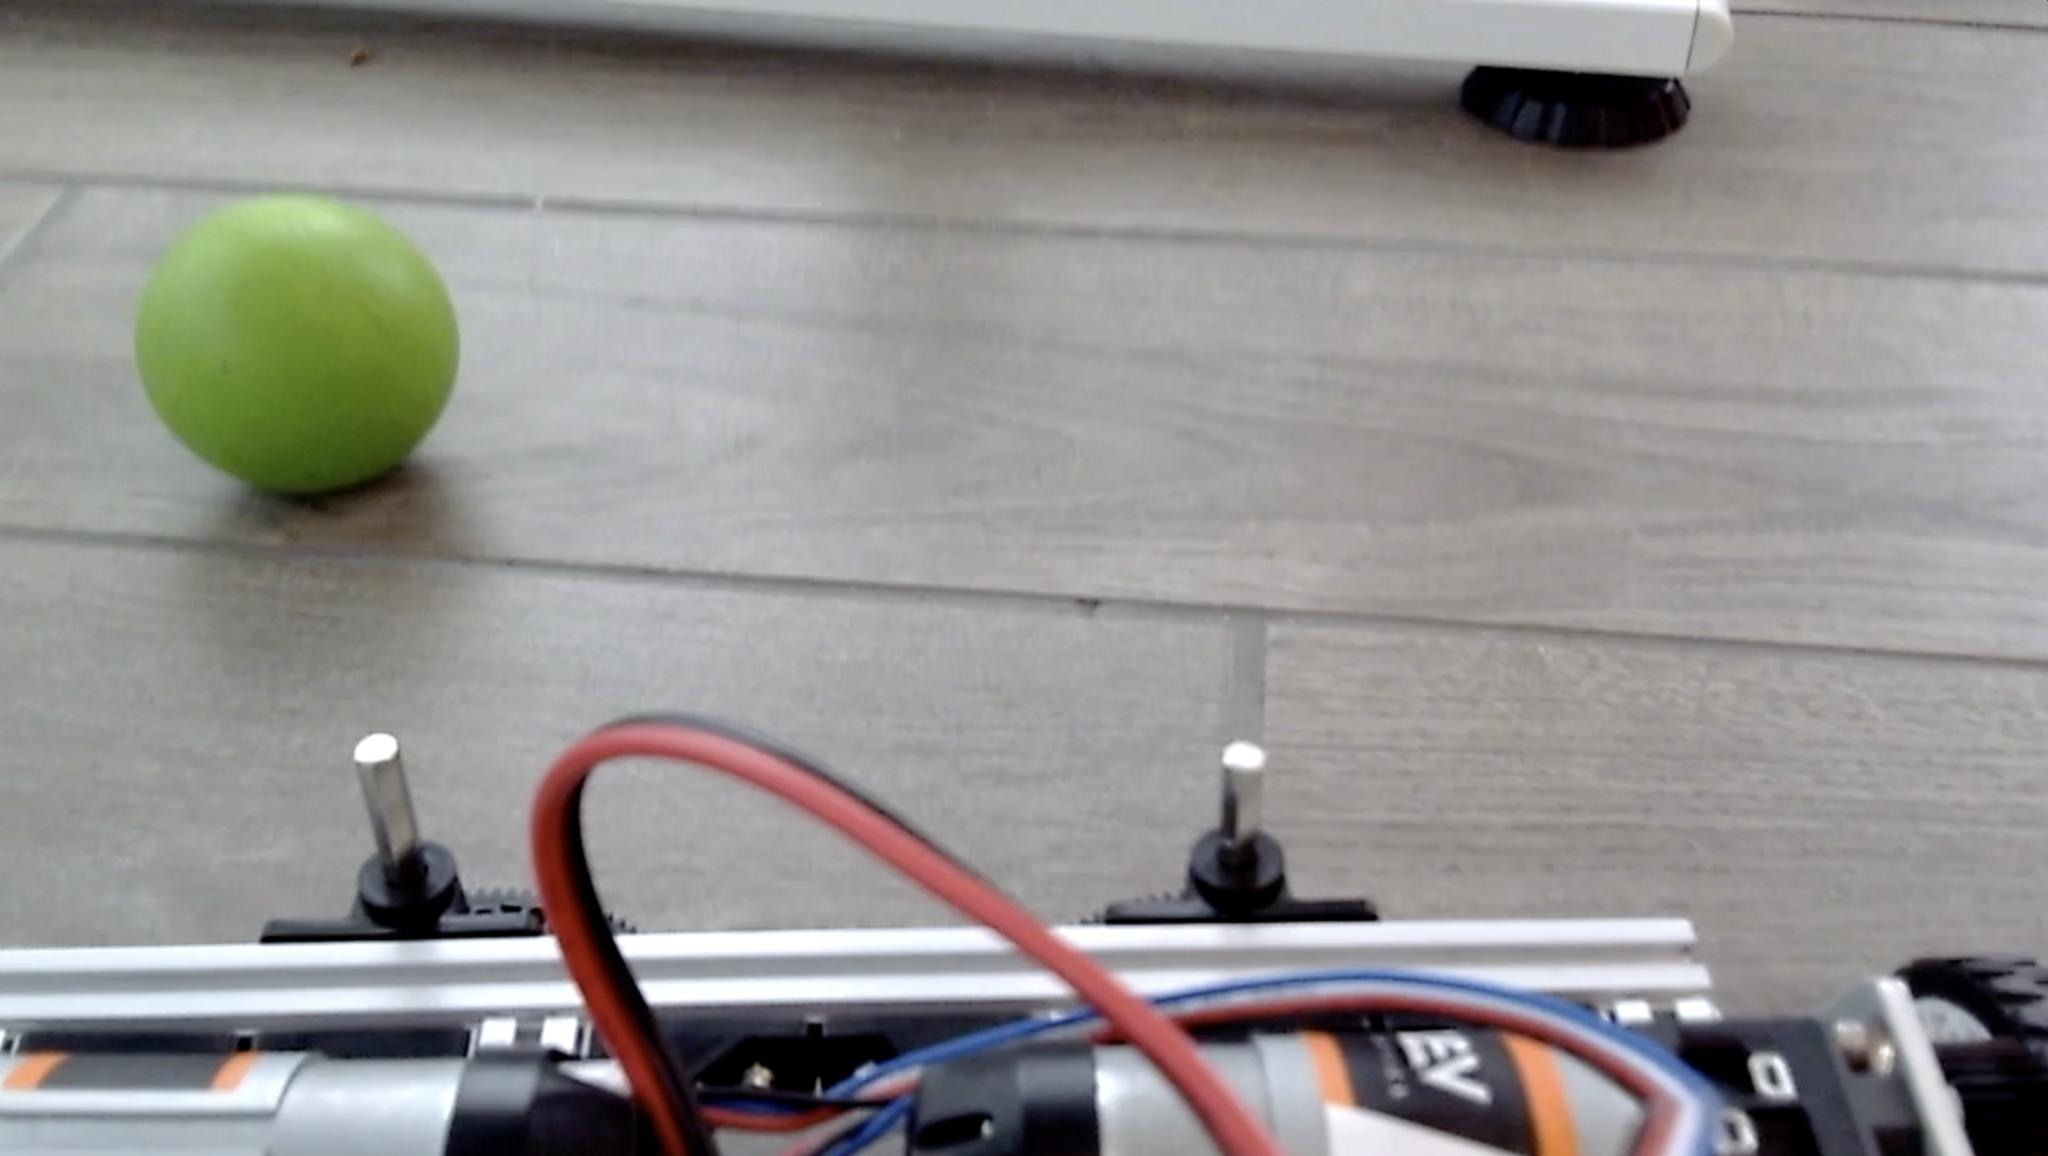greenball: (132, 190, 461, 499)
